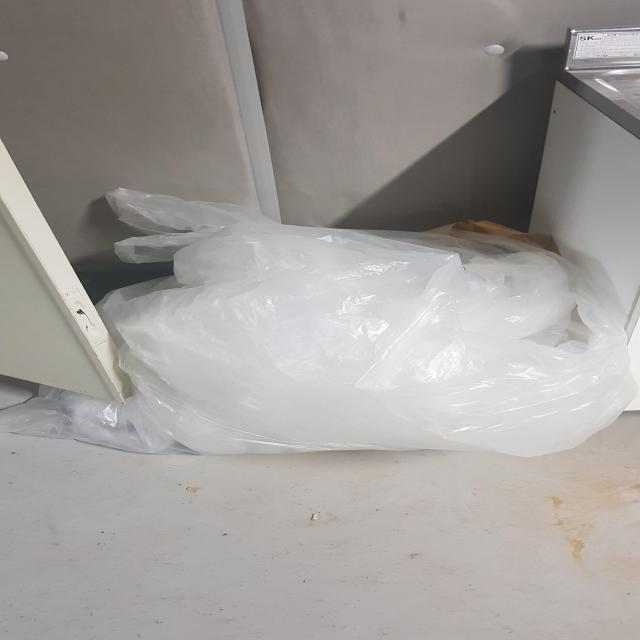litter: (6, 186, 621, 464)
